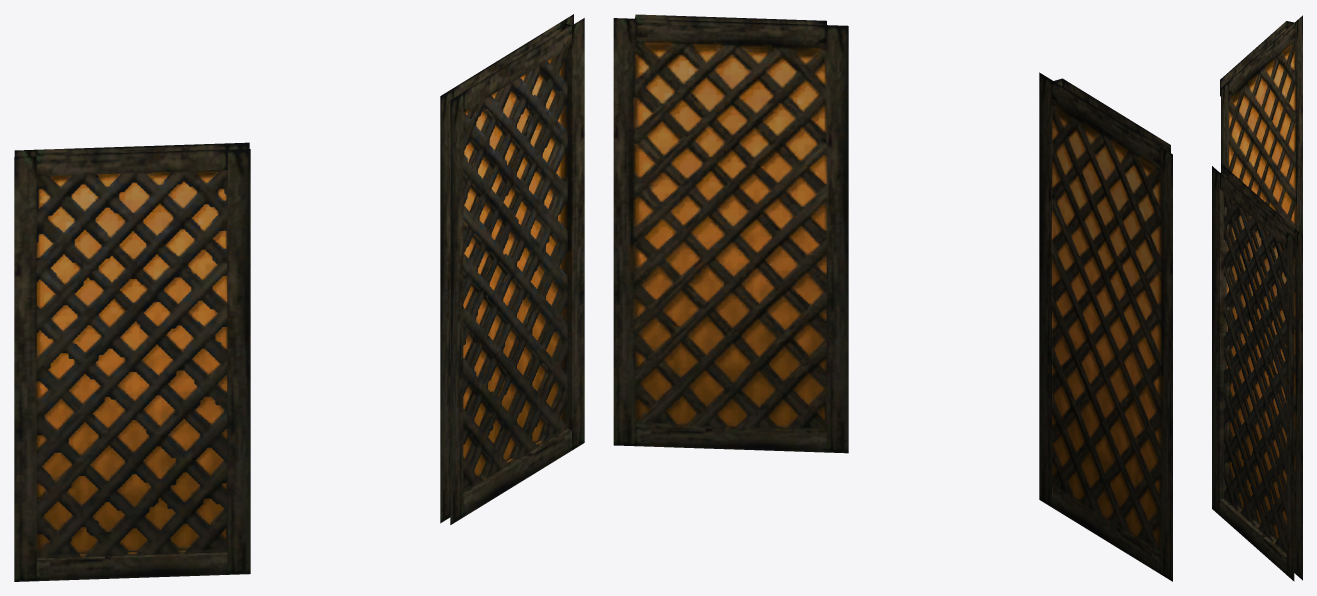
Rendered from LAKETOWN_EXTERIOR_PS_LT_WINDOW_LONG_LOD1_59.fbx.
3 views of the same model, side by side, from view 1: azimuth 30°, elevation 25°; view 2: azimuth 150°, elevation 25°; view 3: azimuth 270°, elevation 25° (orthographic). The views are drawn at different scales.
Visible parts, largest first — view 1: LAKETOWN_EXTERIOR_PS_LT_WINDOW_LONG_LOD1_59; view 2: LAKETOWN_EXTERIOR_PS_LT_WINDOW_LONG_LOD1_59; view 3: LAKETOWN_EXTERIOR_PS_LT_WINDOW_LONG_LOD1_59.
Boxes of the visible parts, x1,y1,x2,y2 form: LAKETOWN_EXTERIOR_PS_LT_WINDOW_LONG_LOD1_59: [14, 14, 584, 581]; LAKETOWN_EXTERIOR_PS_LT_WINDOW_LONG_LOD1_59: [613, 14, 1172, 581]; LAKETOWN_EXTERIOR_PS_LT_WINDOW_LONG_LOD1_59: [1212, 15, 1302, 581].
Bounding box in the file's own units: 20751 × 14850 × 3545.
Materials: 2 (2 with a texture image).
